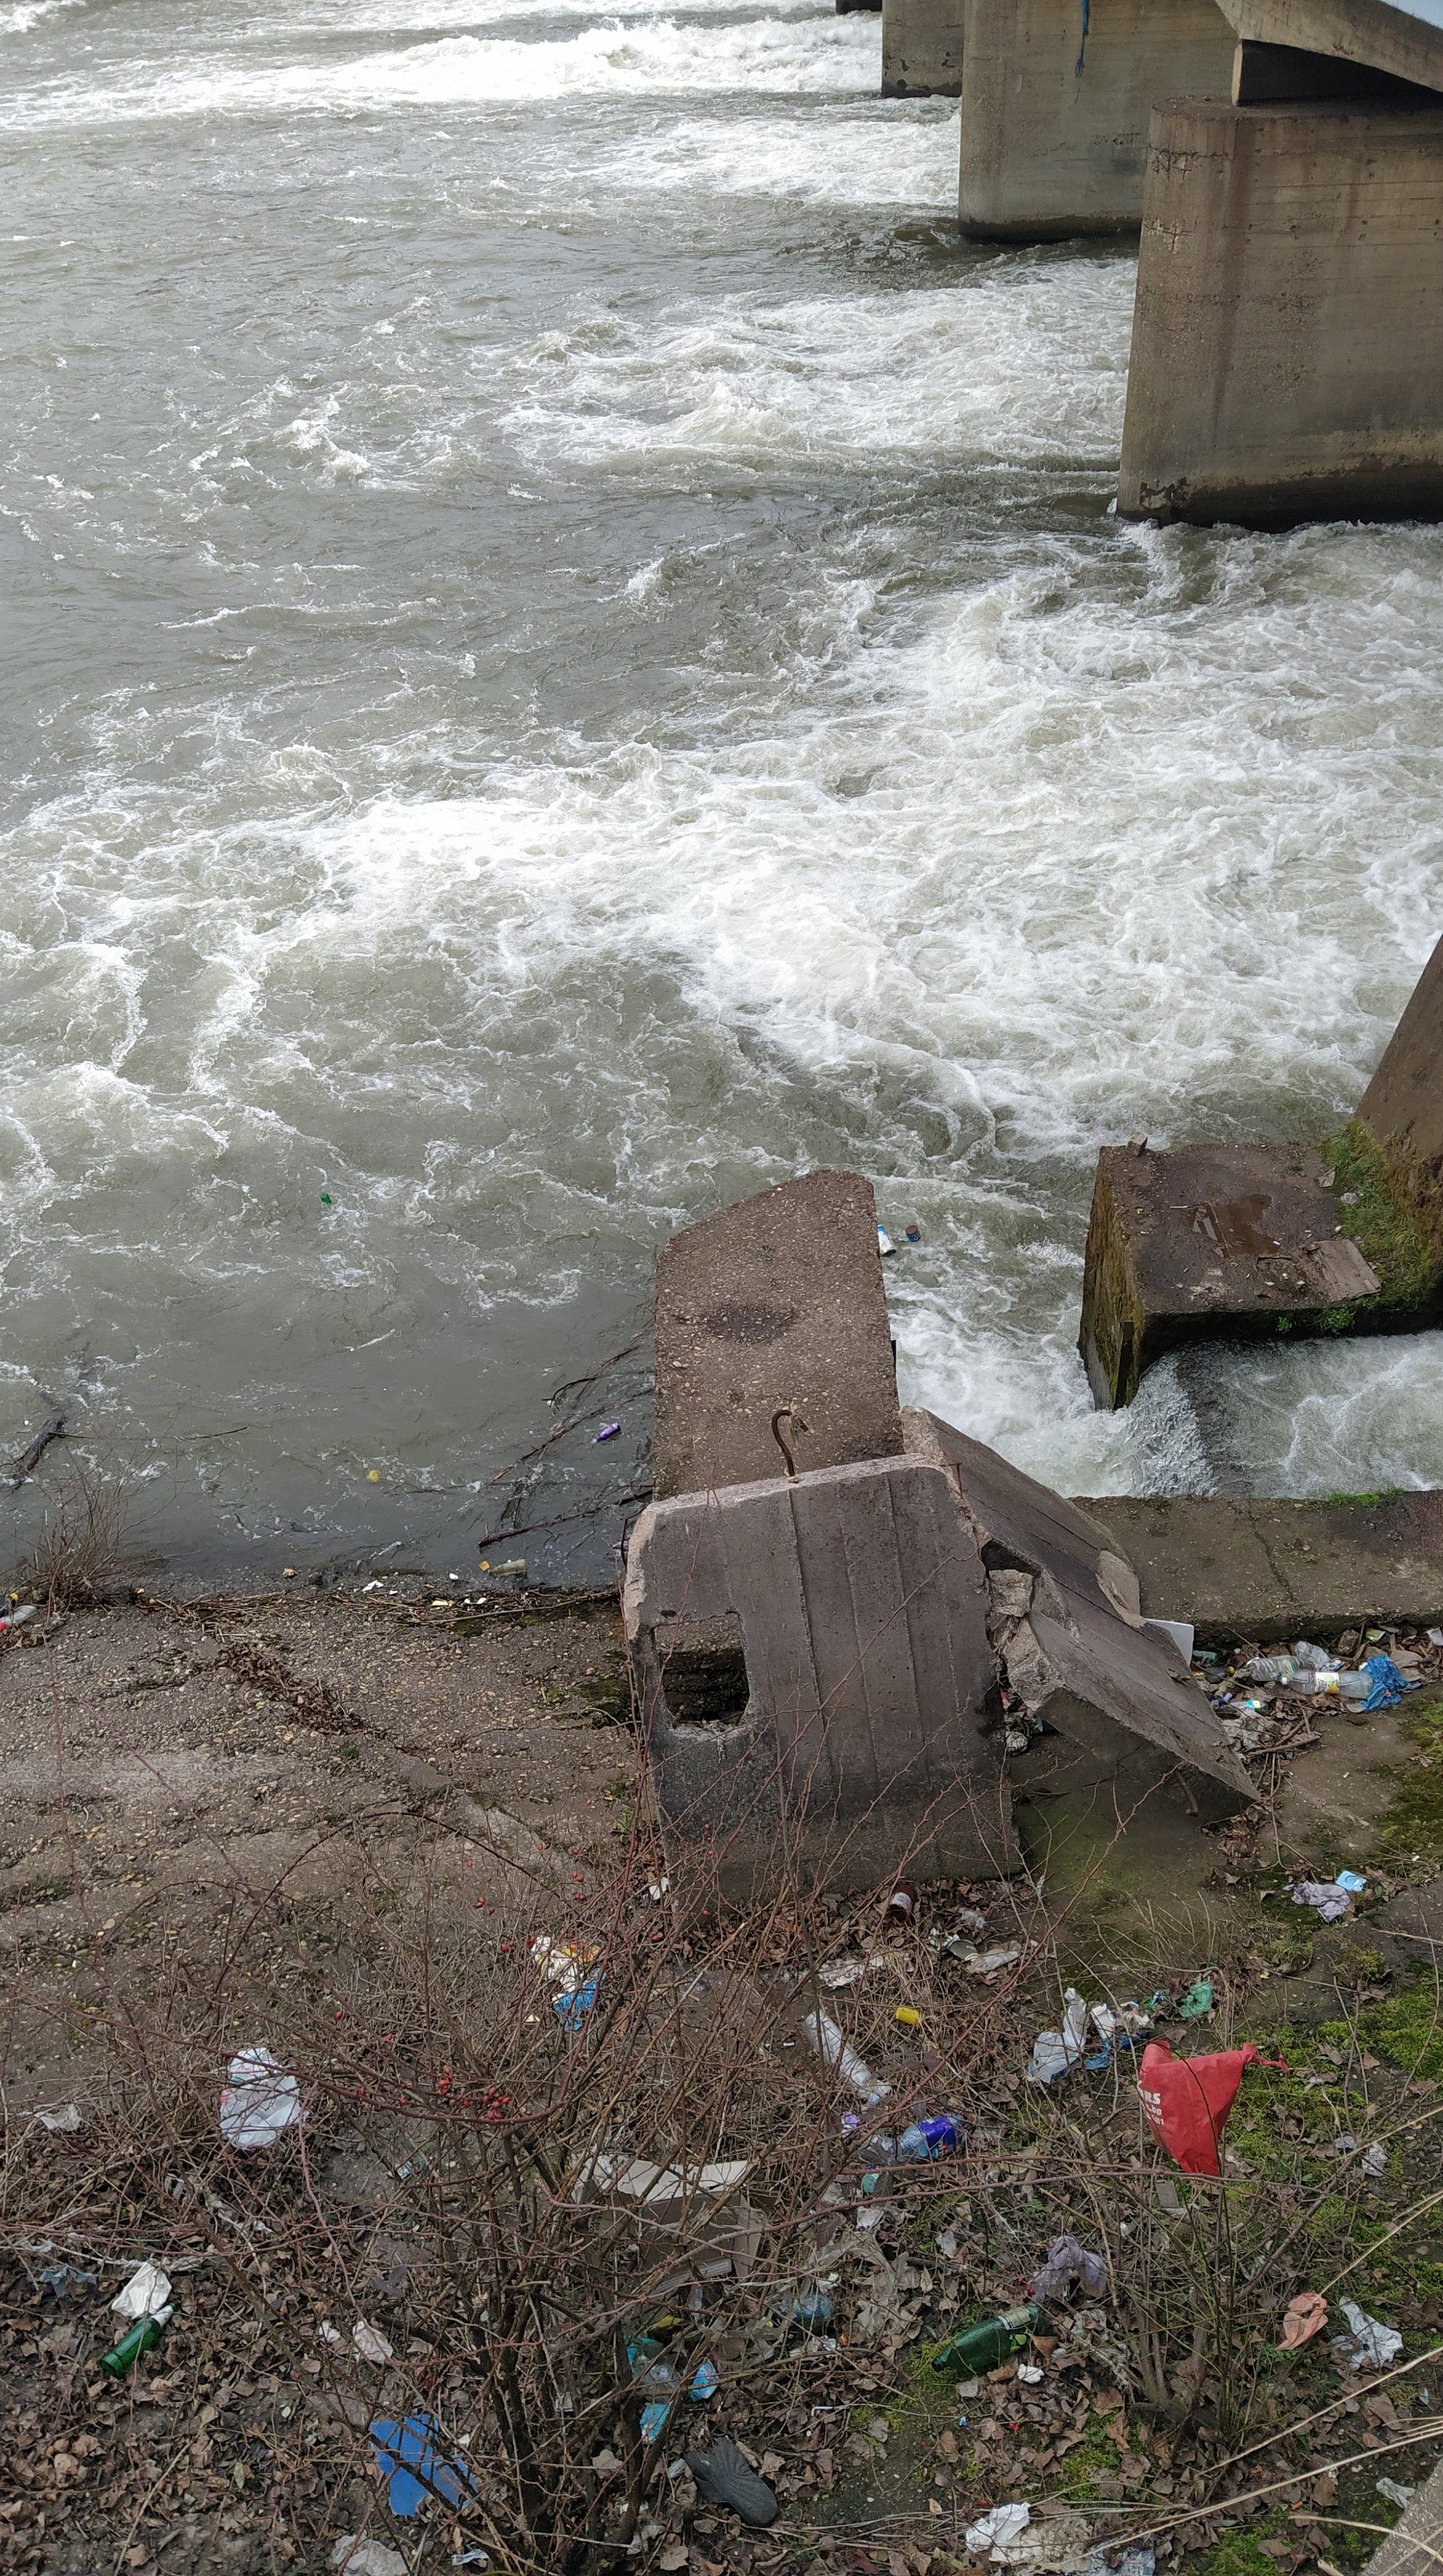Plastic Bottle: (591, 1421, 621, 1444), (489, 1559, 526, 1575), (322, 1191, 331, 1203)
